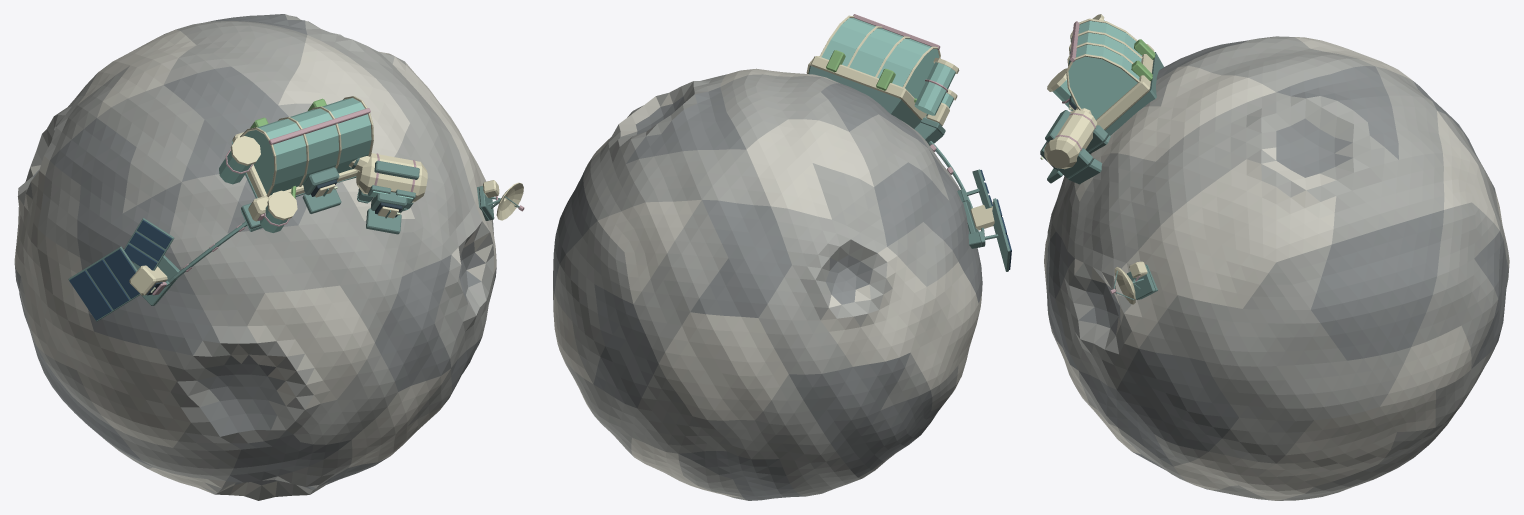
File: Moon.glb
3 renders of one model, left to right at view 1: azimuth 30°, elevation 25°; view 2: azimuth 150°, elevation 25°; view 3: azimuth 270°, elevation 25°, orthographic. The views are drawn at different scales.
Parts seen in each view (by area): view 1: S5_Moon • modeled surfaces; view 2: S5_Moon • modeled surfaces; view 3: S5_Moon • modeled surfaces.
Part boxes in pixels (left/top/right/bottom): S5_Moon • modeled surfaces: left=14, top=14, right=524, bottom=500; S5_Moon • modeled surfaces: left=553, top=14, right=1011, bottom=500; S5_Moon • modeled surfaces: left=1040, top=14, right=1509, bottom=500.
Size of the model in its own units: 1.73 by 1.68 by 1.67.
